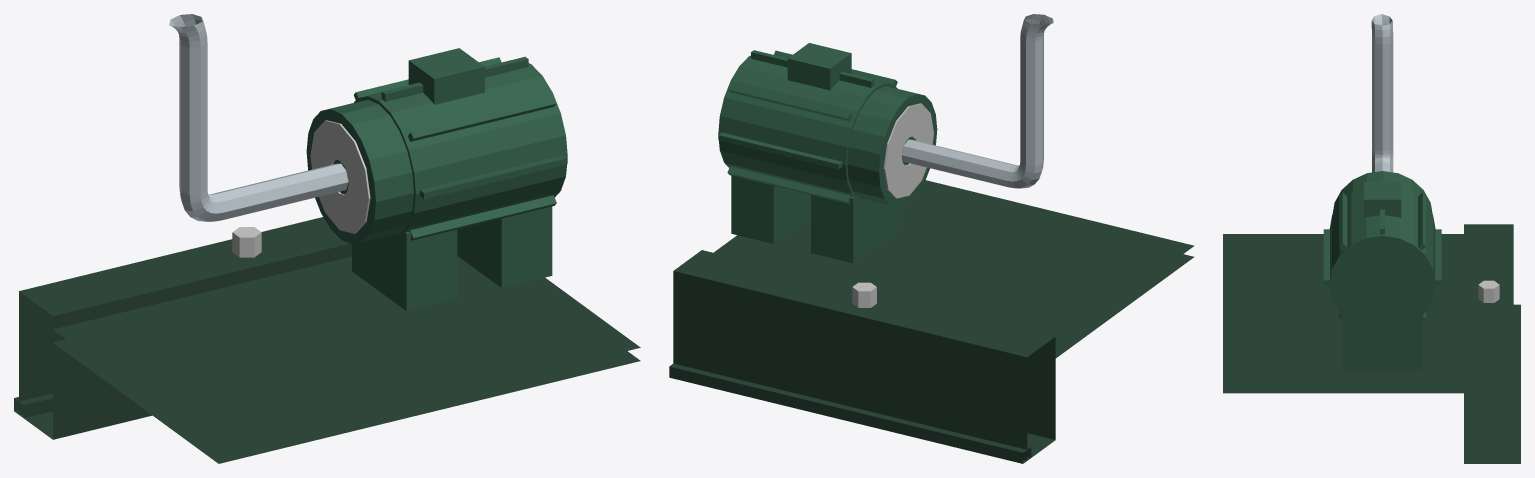
Rendered from cell_2.obj.
3 views of the same model, side by side, from view 1: azimuth 30°, elevation 25°; view 2: azimuth 150°, elevation 25°; view 3: azimuth 270°, elevation 25° (orthographic). The views are drawn at different scales.
Size of the model in its own units: 1 by 1 by 0.84.
